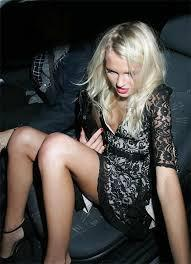Drunk: (103, 49, 138, 98)
